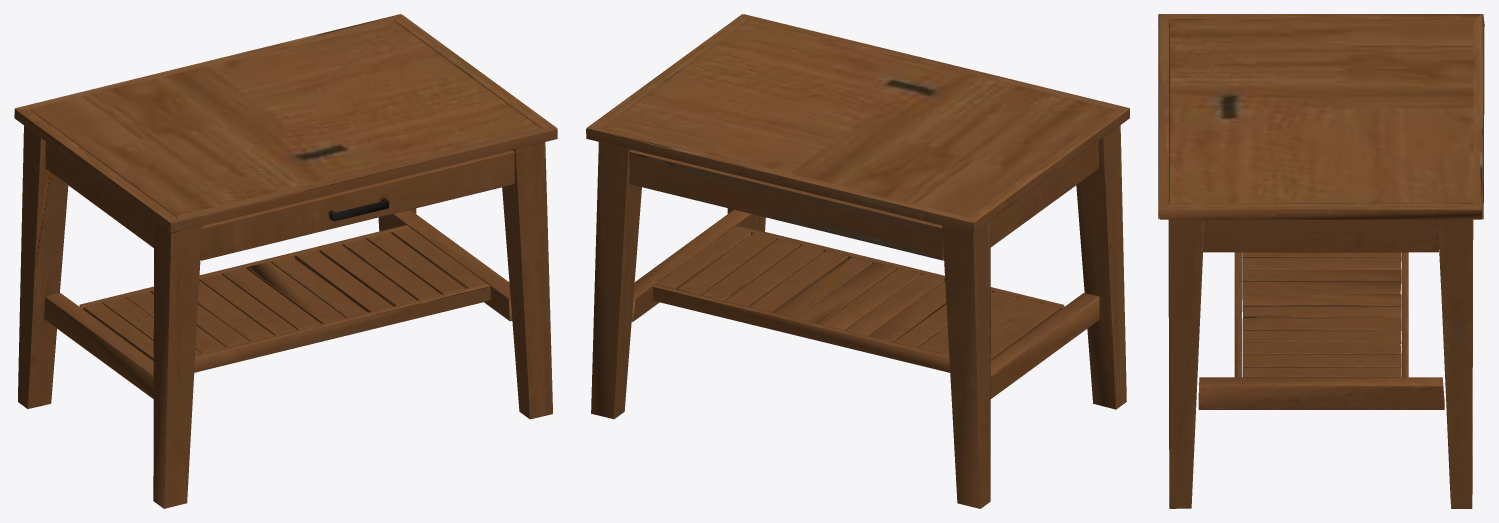
File: AquariumTable.glb
3 renders of one model, left to right at view 1: azimuth 30°, elevation 25°; view 2: azimuth 150°, elevation 25°; view 3: azimuth 270°, elevation 25°, orthographic. The views are drawn at different scales.
Size of the model in its own units: 0.9468 by 0.6728 by 0.6631.
1 material, 1 textured.
